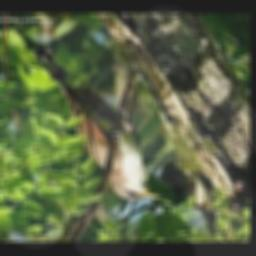Cuckoo: (36, 45, 161, 201)
